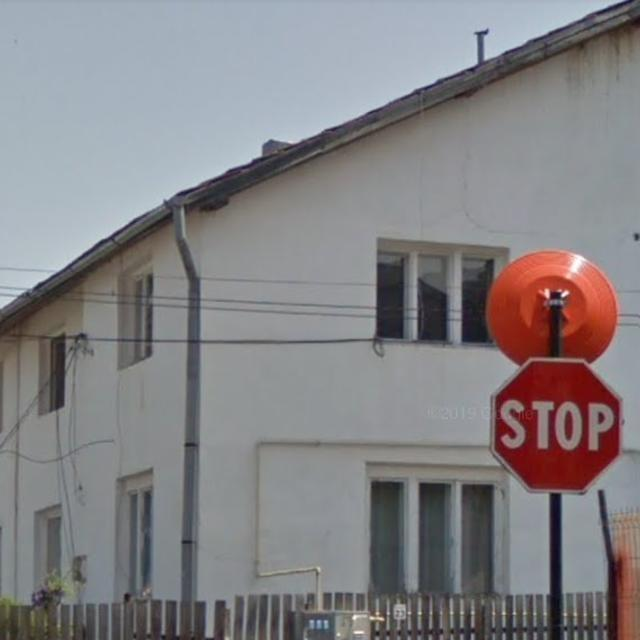prio_stop: (492, 358, 622, 493)
